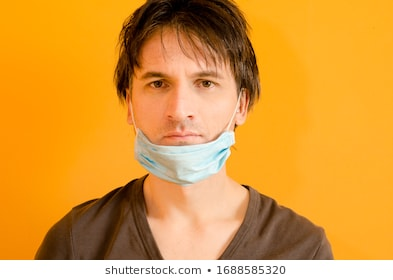mask_weared_incorrect: (132, 67, 239, 178)
